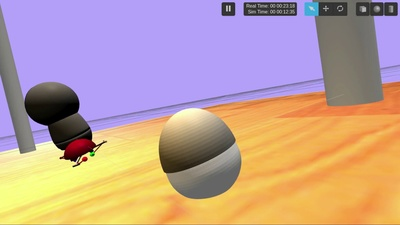mira_robot: (159, 108, 242, 199)
